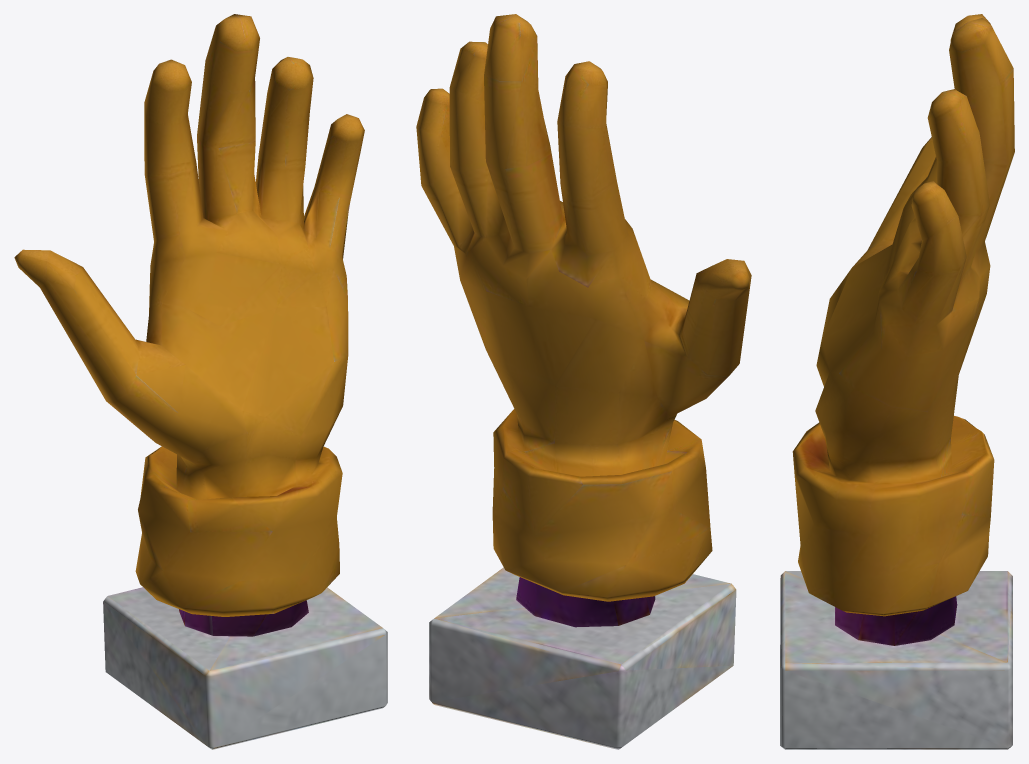
The model's file is hand_statue.glb.
The picture shows the model from 3 angles, left to right: view 1: azimuth 30°, elevation 25°; view 2: azimuth 150°, elevation 25°; view 3: azimuth 270°, elevation 25°; orthographic projection. The views are drawn at different scales.
Bounding box in the file's own units: 2.11 × 4 × 1.22.
Materials: 1 (1 with a texture image).
